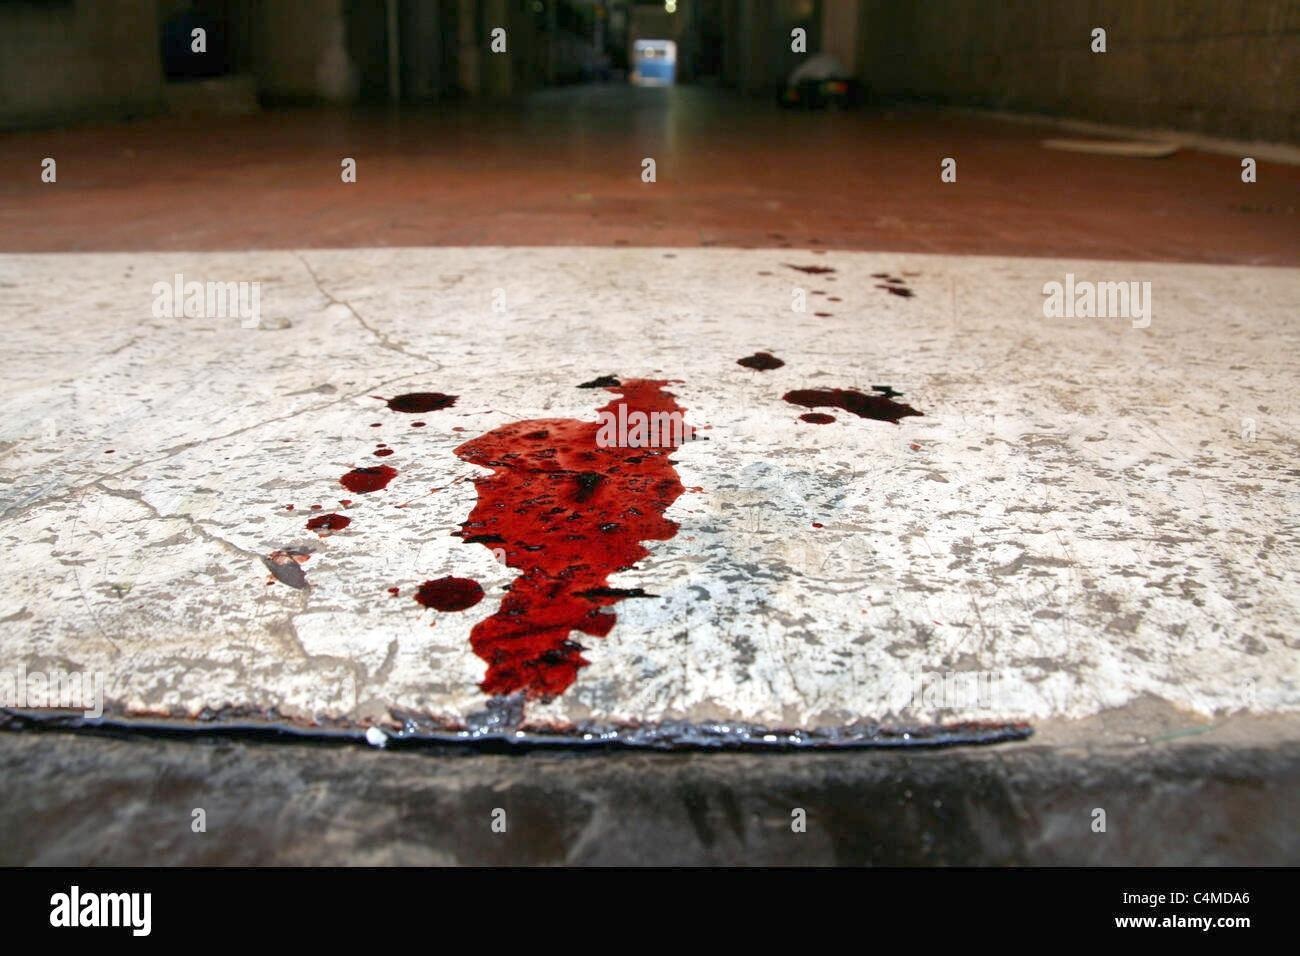Fire: (449, 374, 714, 732), (781, 385, 924, 424), (412, 574, 485, 612), (338, 463, 399, 494), (383, 392, 460, 413), (736, 352, 786, 371), (304, 513, 351, 531), (797, 412, 837, 424)
